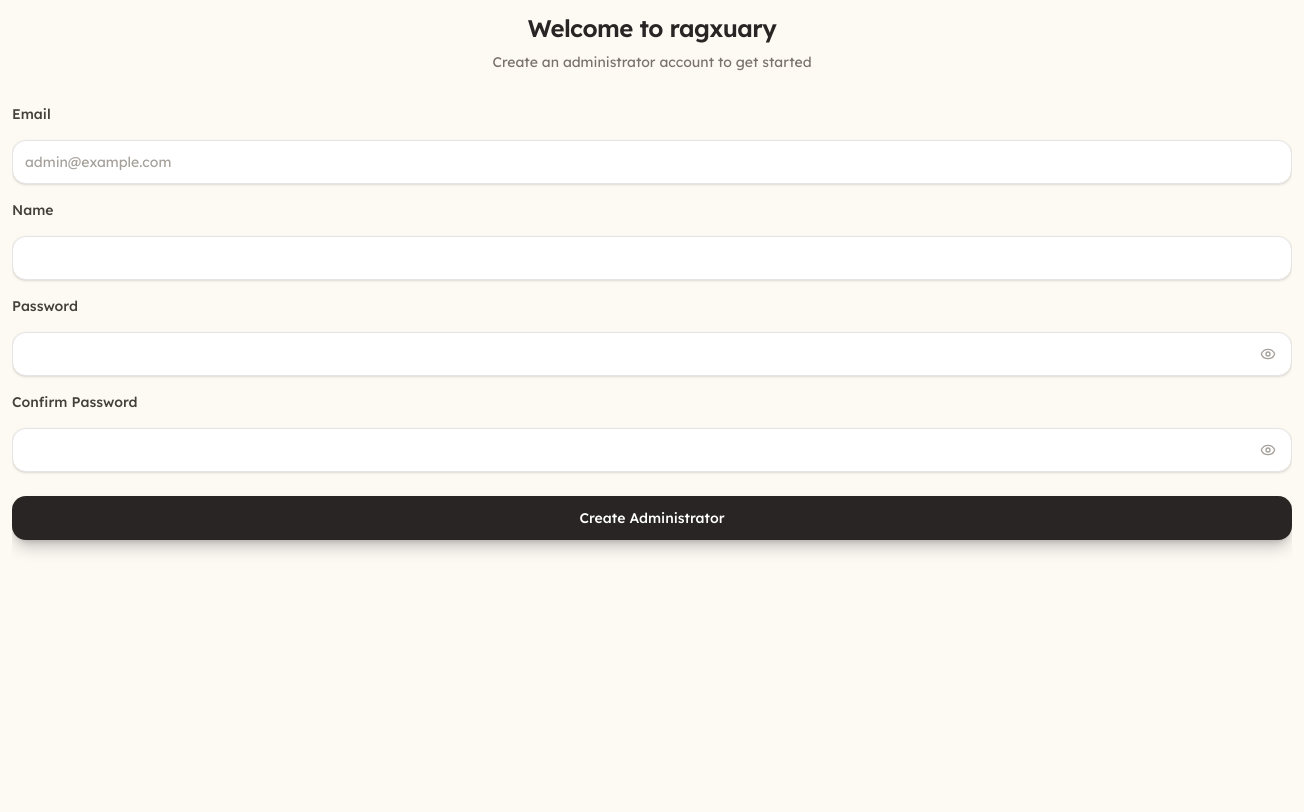
Test: SetupForm component › should show error when password has no letters
Type "12345678" into the 1st password field named "password" at (652, 354), box [12,332,1292,376]
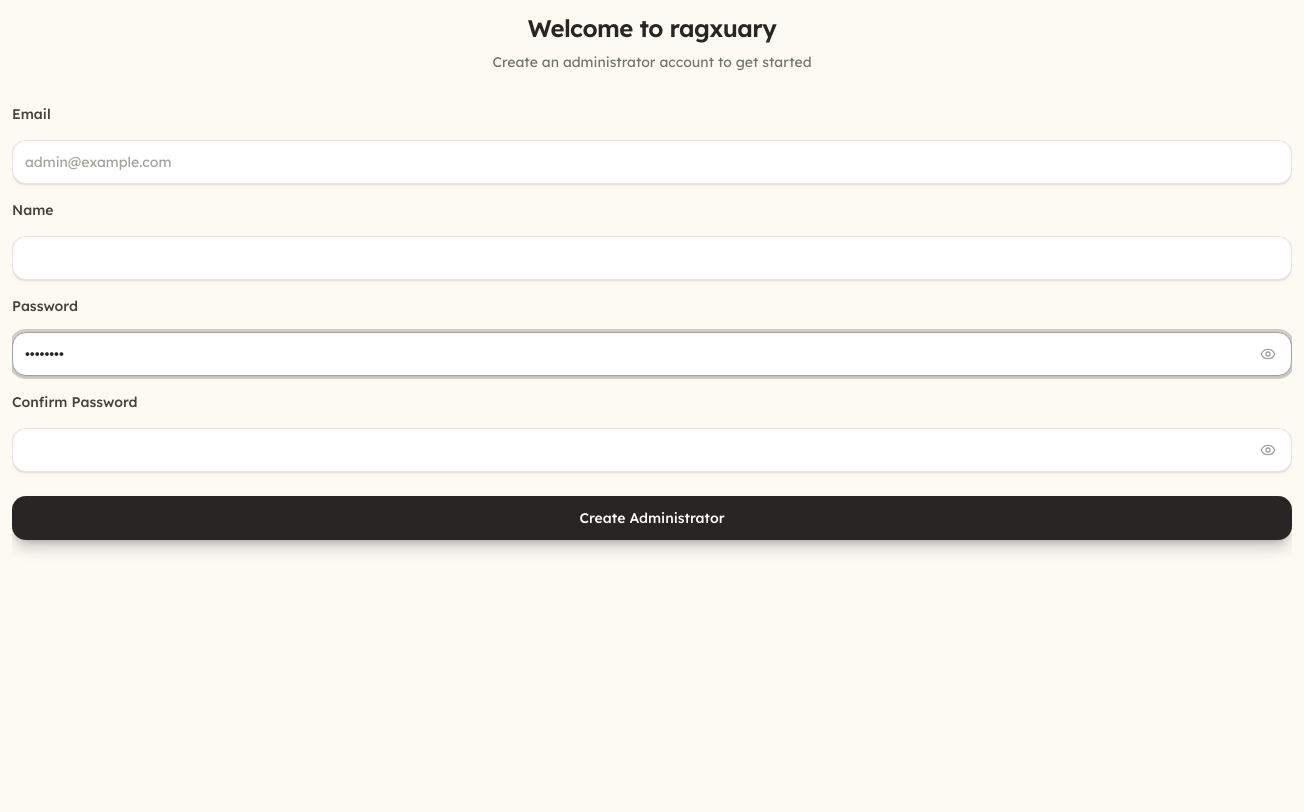
Click the button "Create Administrator" at (652, 518), box [12,496,1292,540]
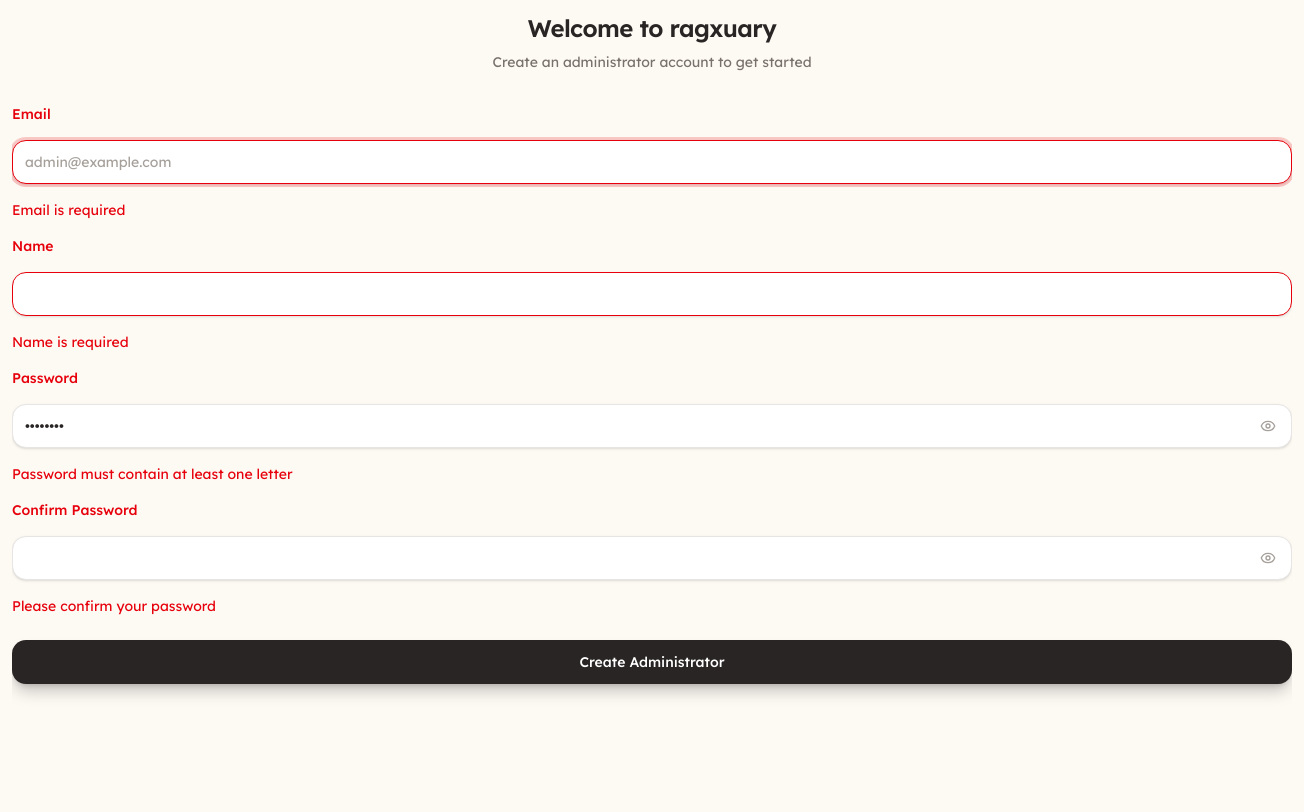
Result: the text "Password must contain at least one letter" is shown at [12,465,293,483]
